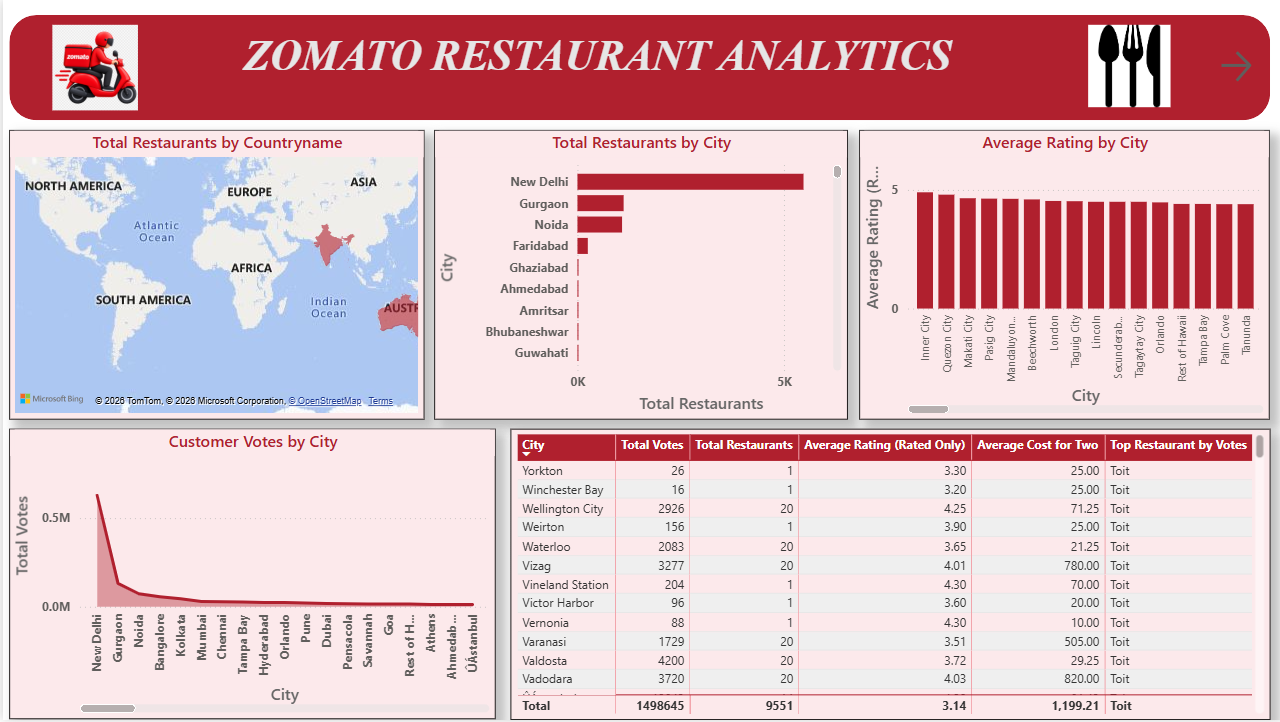

The page's visual inventory and layout, read from the dashboard file:
{"tool":"powerbi","page":{"name":"Geographical & Locality Analysis","canvas":[1280,720],"ordinal":2},"visuals":[{"type":"shape","box":[5.8,14.4,1261,105.3],"z":0},{"type":"textbox","box":[92.3,14.4,1004.2,98.1],"z":1000},{"type":"image","box":[43.3,20.2,96.7,95.2],"z":2000},{"type":"image","box":[1079.2,20.2,95.2,92.3],"z":3000},{"type":"actionButton","box":[1211.9,46.2,41.8,40.4],"z":4000},{"type":"filledMap","fields":{"Category":["Sheet2.Countryname"]},"box":[6,129.9,414.9,289.6],"z":9000},{"type":"barChart","fields":{"Category":["Sheet1.City"],"Y":["Sheet1.Total Restaurants"]},"box":[431.3,129.9,413.4,289.6],"z":10000},{"type":"columnChart","title":"Average Rating by City","fields":{"Y":["Sheet1.Average Rating (Rated Only)"],"Category":["Sheet1.City"]},"box":[856.7,129.9,410.4,289.6],"z":11000},{"type":"stackedAreaChart","title":"Customer Votes by City","fields":{"Category":["Sheet1.City"],"Y":["Sheet1.Total Votes"]},"box":[6.2,428.8,486.2,290],"z":12000},{"type":"tableEx","fields":{"Values":["Sheet1.City","Sheet1.Total Votes","Sheet1.Total Restaurants","Sheet1.Average Rating (Rated Only)","Sheet1.Average Cost for Two","Sheet1.Top Restaurant by Votes"]},"box":[507.5,428.4,759.7,291],"z":13000}]}

Visuals, with their boxes in screenshot pixels (x1, y1, x2, y2), scaled from the page's 1280x720 canvas onto the 1280x722 screenshot:
shape: [6, 14, 1267, 120]
textbox: [92, 14, 1096, 113]
image: [43, 20, 140, 116]
image: [1079, 20, 1174, 113]
actionButton: [1212, 46, 1254, 87]
filledMap - Sheet2.Countryname: [6, 130, 421, 421]
barChart - Sheet1.City x Sheet1.Total Restaurants: [431, 130, 845, 421]
"Average Rating by City" columnChart: [857, 130, 1267, 421]
"Customer Votes by City" stackedAreaChart: [6, 430, 492, 721]
tableEx - Sheet1.City x Sheet1.Total Votes: [508, 430, 1267, 721]
